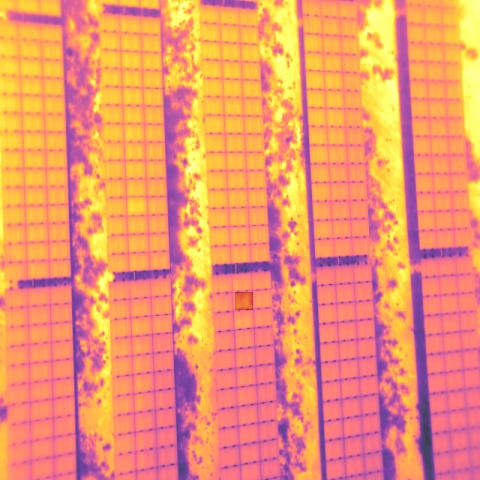fault: (235, 292, 253, 310), (127, 198, 145, 214)
